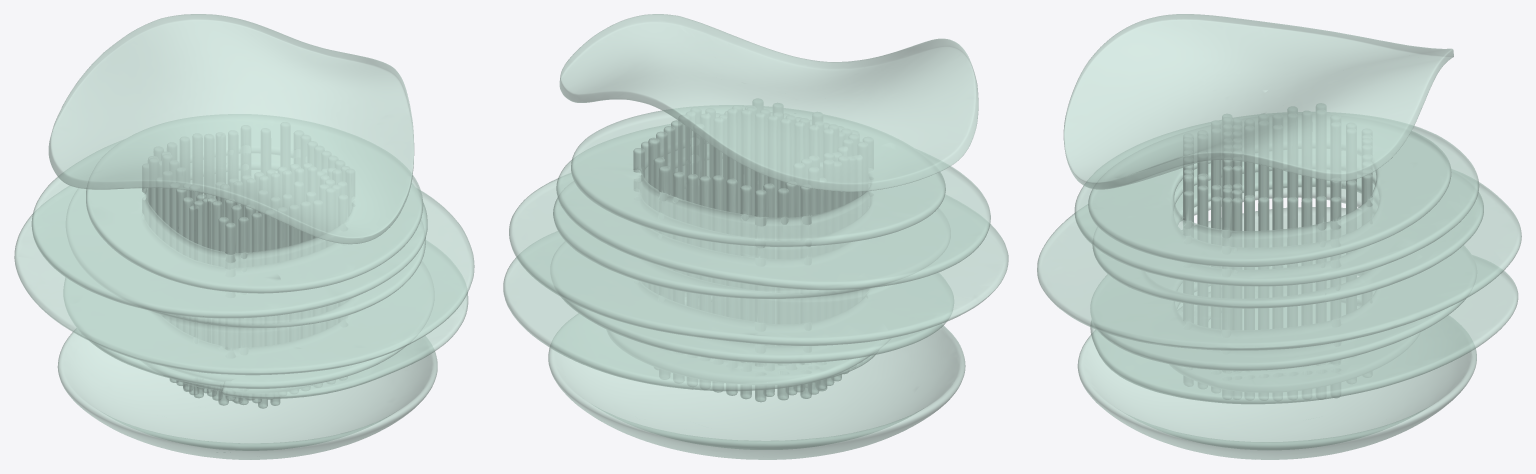
The model's file is assembl-hero-vessel.glb.
3 views of the same model, side by side, from view 1: azimuth 30°, elevation 25°; view 2: azimuth 150°, elevation 25°; view 3: azimuth 270°, elevation 25° (orthographic). The views are drawn at different scales.
Parts seen in each view (by area): view 1: material; view 2: material; view 3: material.
Part boxes in pixels (x1=…): material: x1=14, y1=14, x2=474, y2=459; material: x1=503, y1=14, x2=1008, y2=459; material: x1=1037, y1=14, x2=1521, y2=459.
Bounding box in the file's own units: 1.09 × 0.9059 × 1.09.
